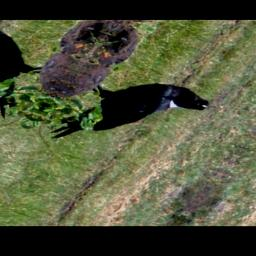Crow: (41, 62, 219, 173)
